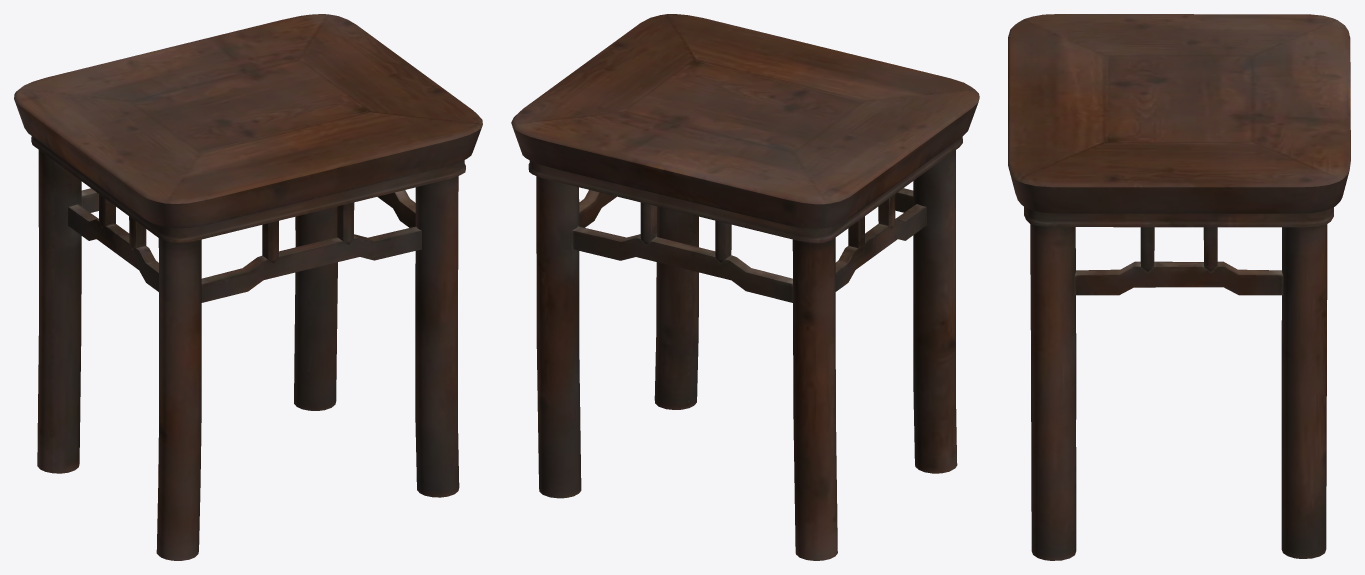
File: chinese-stool.glb
3 renders of one model, left to right at view 1: azimuth 30°, elevation 25°; view 2: azimuth 150°, elevation 25°; view 3: azimuth 270°, elevation 25°, orthographic. The views are drawn at different scales.
Parts seen in each view (by area): view 1: chinese_stool; view 2: chinese_stool; view 3: chinese_stool.
Boxes of the visible parts, <box> form: chinese_stool: <box>14,14,482,560</box>; chinese_stool: <box>511,14,979,560</box>; chinese_stool: <box>1008,14,1350,560</box>.
Bounding box in the file's own units: 0.4465 × 0.47 × 0.3775.
1 material, 1 textured.
